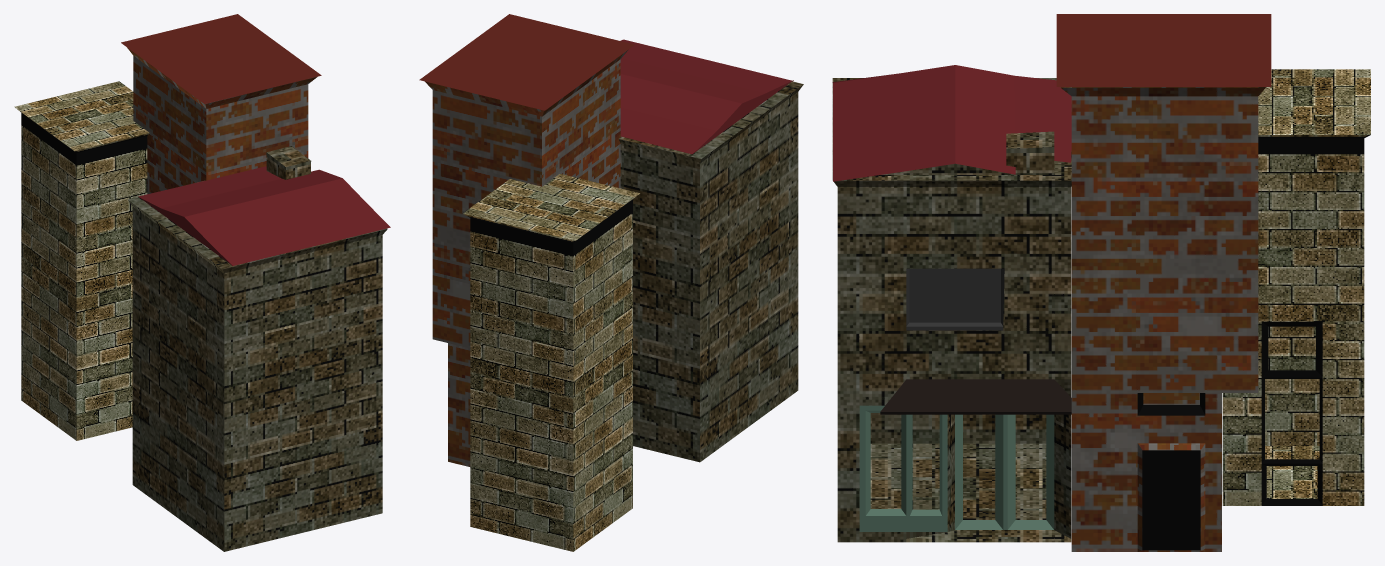
Rendered from EXTRAbuildings23.glb.
The picture shows the model from 3 angles, left to right: view 1: azimuth 30°, elevation 25°; view 2: azimuth 150°, elevation 25°; view 3: azimuth 270°, elevation 25°; orthographic projection. The views are drawn at different scales.
Visible parts, largest first — view 1: Cube, Cube.002, Cube.001; view 2: Cube, Cube.002, Cube.001; view 3: Cube, Cube.001, Cube.002, Cube.010.
Boxes of the visible parts, x1,y1,x2,y2 form: Cube: (127,146,390,551); Cube.002: (14,81,149,440); Cube.001: (121,14,321,194); Cube: (619,39,803,462); Cube.002: (463,174,639,551); Cube.001: (419,14,634,466); Cube: (832,65,1071,542); Cube.001: (1056,14,1271,551); Cube.002: (1222,69,1370,505); Cube.010: (1261,321,1322,505).
Bounding box in the file's own units: 4.61 × 8.71 × 9.03.
11 materials, 3 textured.
